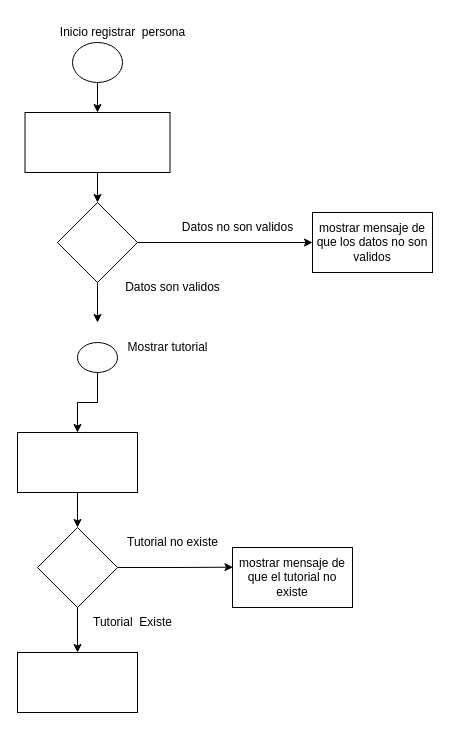
Some shapes in this 450 by 730 pixel diagram are drawn without their labels. Here are the shapes that lost their labels. From the top down, the box of each, then its label:
(24, 112, 170, 172): validar integridad de datos
(16, 432, 138, 492): validar Tutorial exista
